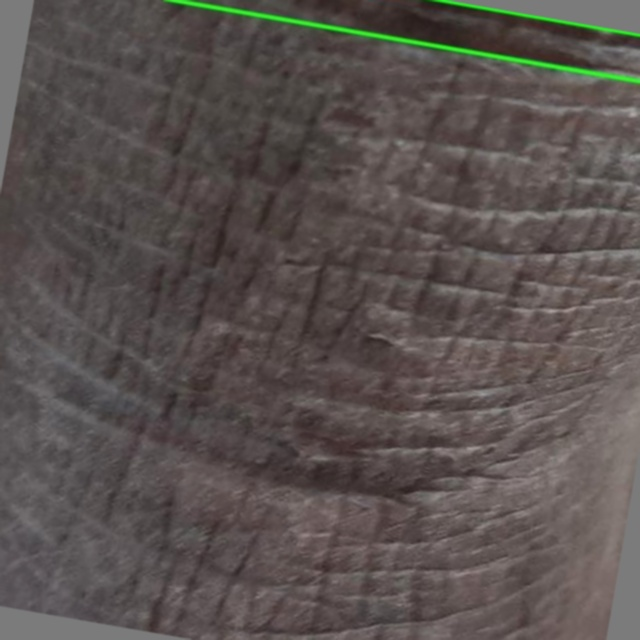Eczema: (175, 0, 639, 81)
